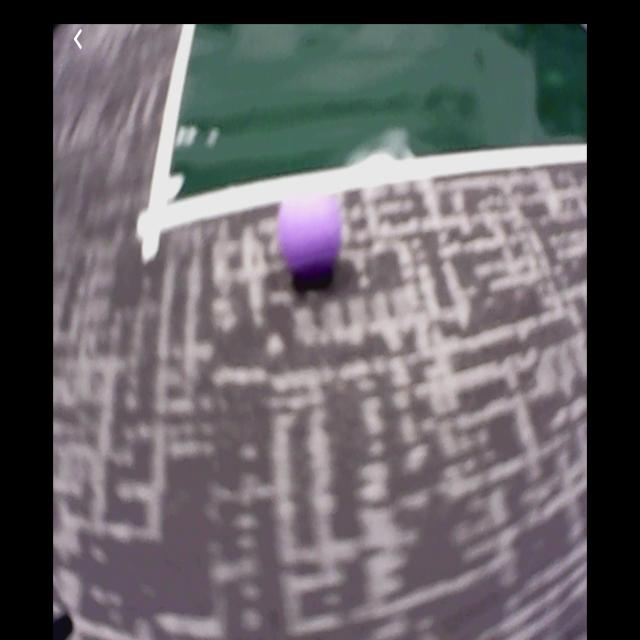ball: (281, 186, 342, 282)
